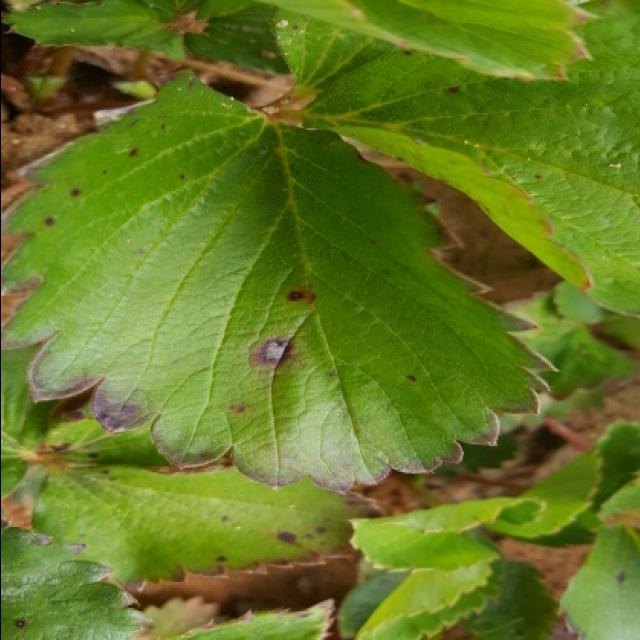Leaf Spot: (2, 66, 560, 496), (298, 2, 640, 319), (32, 459, 390, 586), (2, 522, 154, 640), (553, 524, 640, 640), (40, 399, 174, 472), (164, 597, 337, 640)
